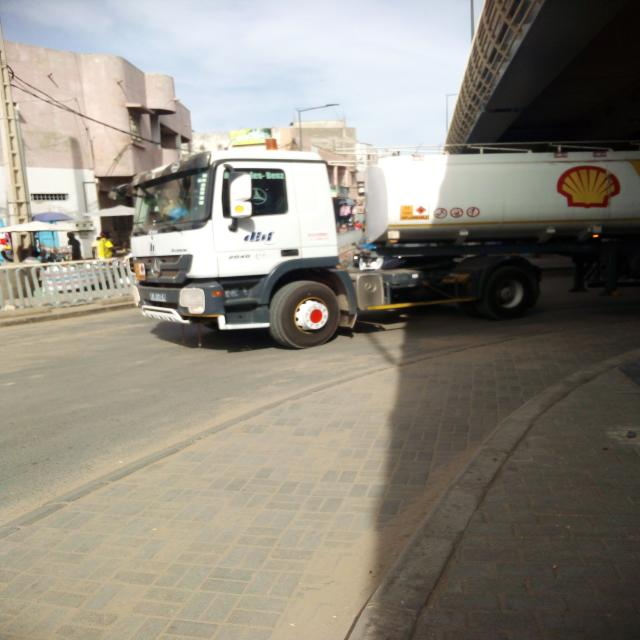camion: (121, 151, 639, 350)
